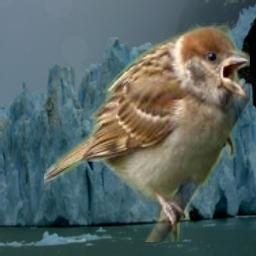Sparrow: (44, 23, 250, 242)
